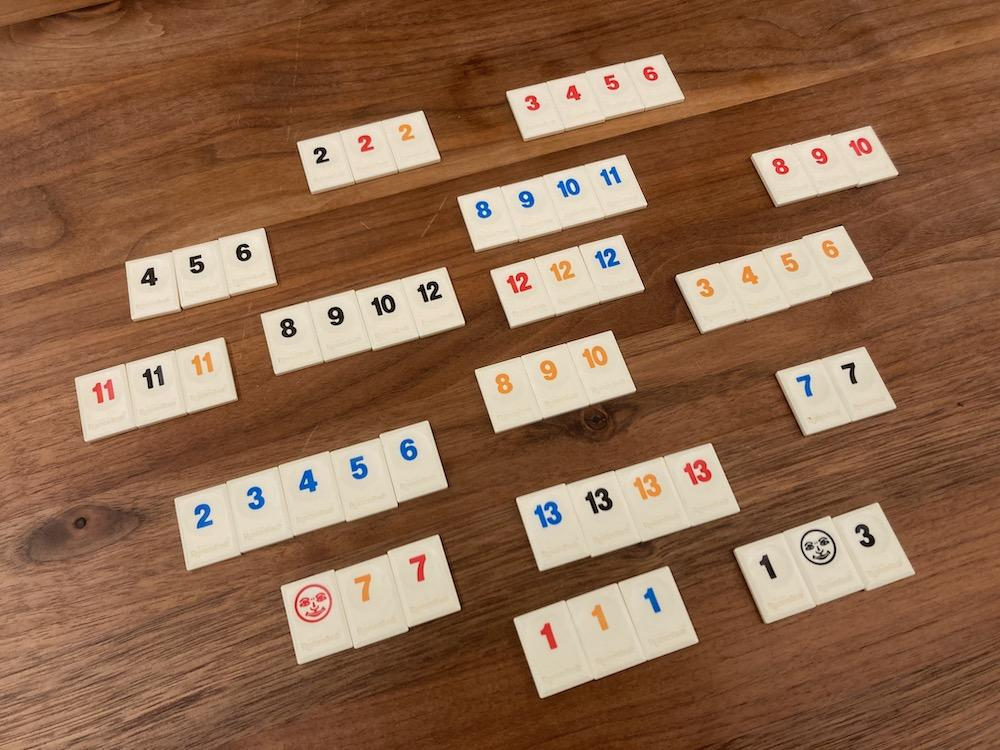black_1: (734, 533, 814, 623)
black_10: (357, 279, 418, 350)
black_11: (125, 352, 186, 428)
black_12: (402, 268, 465, 338)
black_13: (566, 471, 641, 557)
black_2: (297, 133, 355, 193)
black_3: (834, 504, 914, 590)
black_4: (126, 252, 180, 320)
black_5: (172, 240, 229, 309)
black_6: (220, 229, 277, 295)
black_7: (822, 348, 896, 422)
black_8: (262, 303, 324, 375)
black_9: (309, 291, 371, 361)
blue_1: (619, 566, 697, 660)
blue_10: (543, 166, 604, 229)
blue_11: (586, 154, 646, 217)
blue_12: (579, 236, 645, 303)
blue_13: (516, 484, 590, 570)
blue_2: (174, 484, 240, 570)
blue_3: (227, 467, 293, 553)
blue_4: (280, 451, 344, 535)
blue_5: (330, 439, 396, 521)
blue_6: (381, 420, 447, 502)
blue_7: (775, 359, 850, 436)
blue_8: (458, 188, 518, 252)
blue_9: (502, 178, 561, 240)
joker: (783, 518, 863, 604), (282, 570, 354, 664)
orange_1: (566, 584, 646, 680)
orange_10: (568, 330, 635, 404)
orange_11: (177, 338, 236, 412)
orange_12: (536, 246, 600, 314)
orange_13: (616, 457, 689, 541)
orange_2: (383, 111, 439, 172)
orange_3: (677, 264, 746, 334)
orange_4: (721, 252, 789, 320)
orange_5: (764, 240, 830, 307)
orange_6: (803, 227, 871, 291)
orange_7: (337, 555, 408, 648)
orange_8: (475, 357, 543, 432)
orange_9: (521, 344, 590, 418)
red_1: (514, 602, 594, 697)
red_10: (832, 127, 898, 186)
red_11: (76, 365, 135, 441)
red_12: (490, 260, 555, 328)
red_13: (664, 443, 740, 525)
red_2: (341, 121, 398, 182)
red_3: (507, 82, 564, 141)
red_4: (548, 74, 605, 129)
red_5: (586, 64, 645, 119)
red_6: (626, 55, 684, 109)
red_7: (389, 535, 461, 627)
red_8: (752, 145, 816, 207)
red_9: (793, 135, 857, 195)
